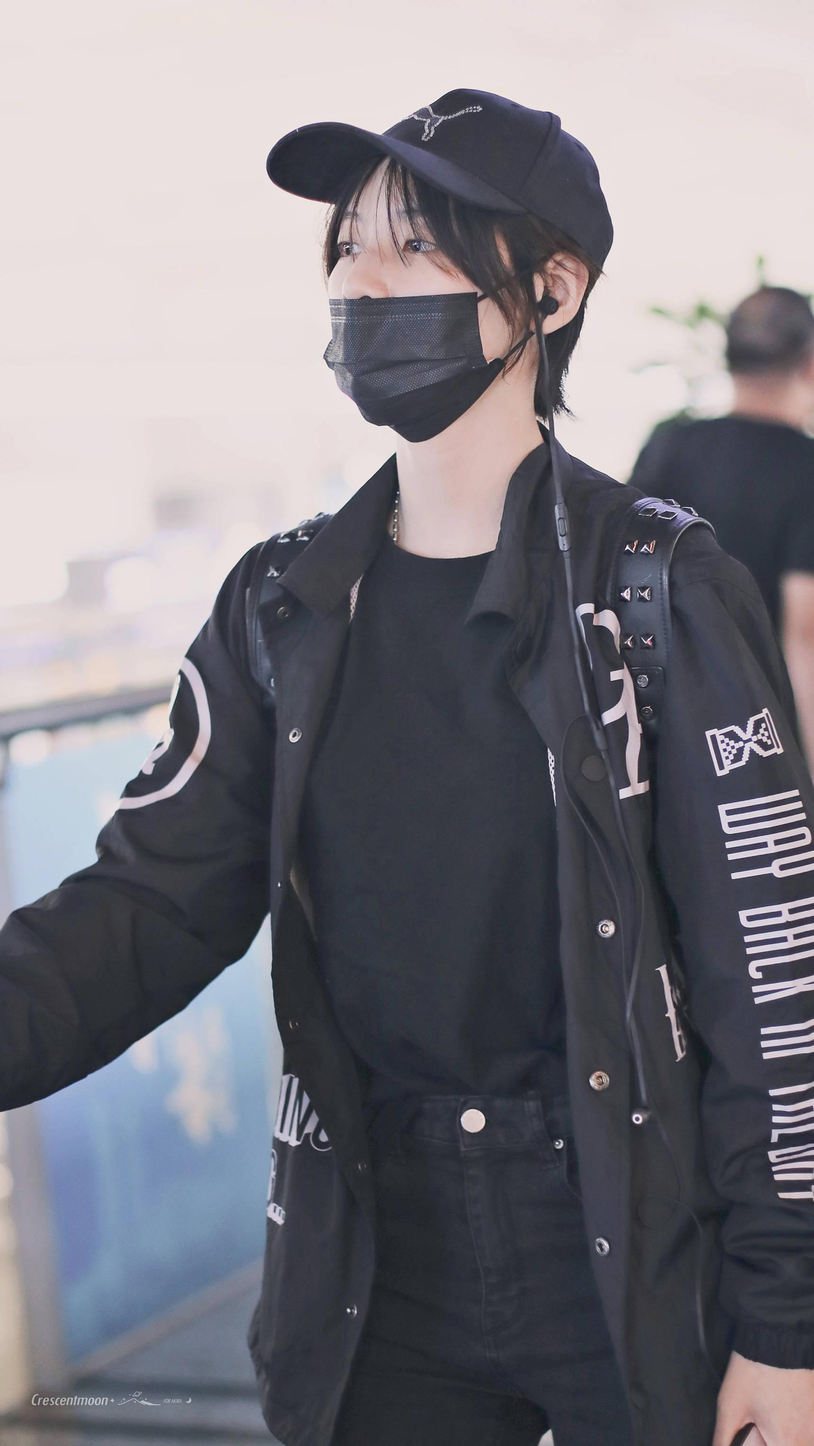WRONG: (325, 187, 515, 430)
